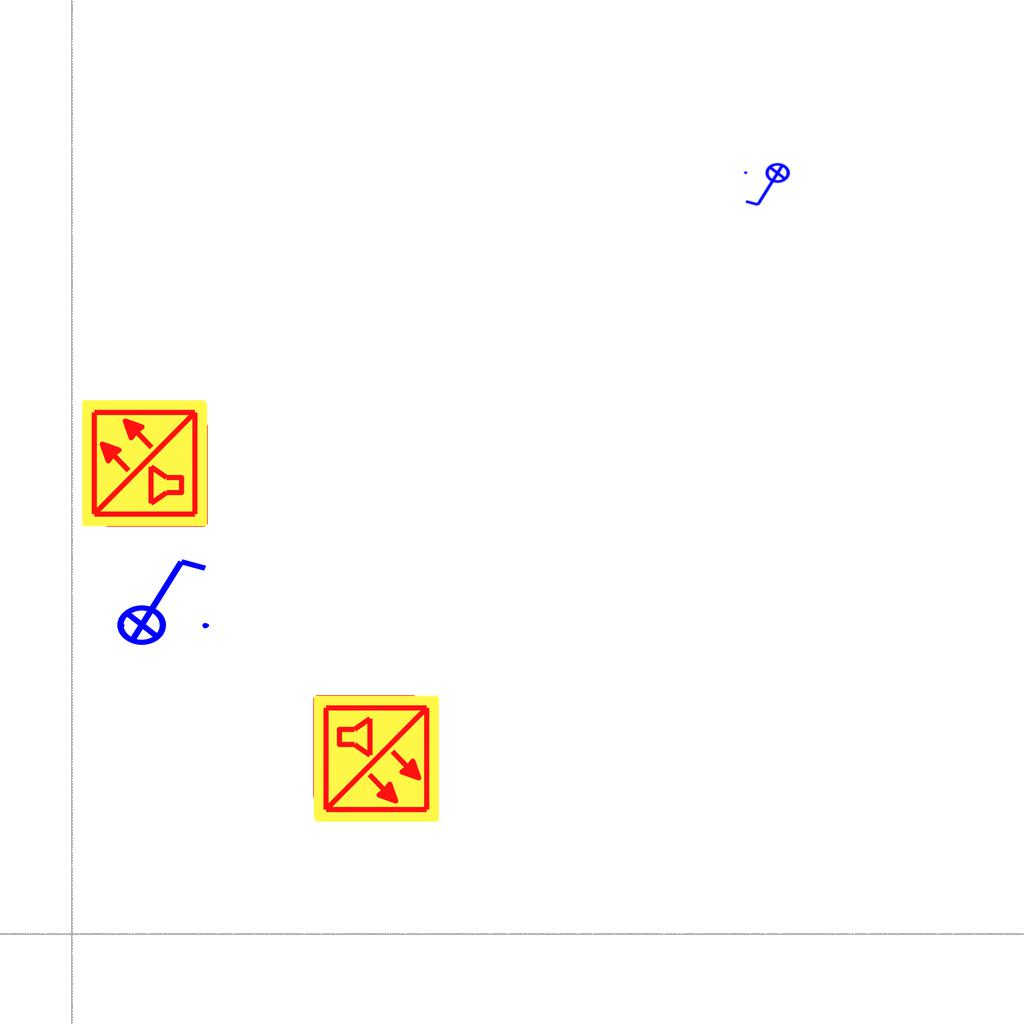Ausschalter_beleuchtet: (103, 551, 215, 647), (741, 162, 797, 210)
OKW_Multisensormelder_(Kombination_optischer_Rauch-Kahlenmonoxid_Waerme-Melder): (310, 693, 442, 825), (79, 397, 211, 529)
